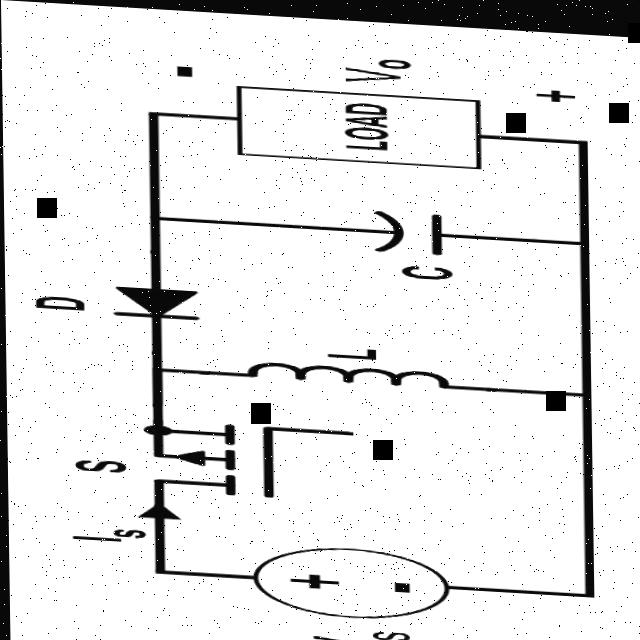capacitor: (329, 197, 480, 254)
diode: (92, 275, 233, 334)
inductor: (214, 346, 475, 397)
mosfet: (122, 406, 359, 501)
resistor: (198, 69, 531, 173)
source: (234, 534, 457, 622)
